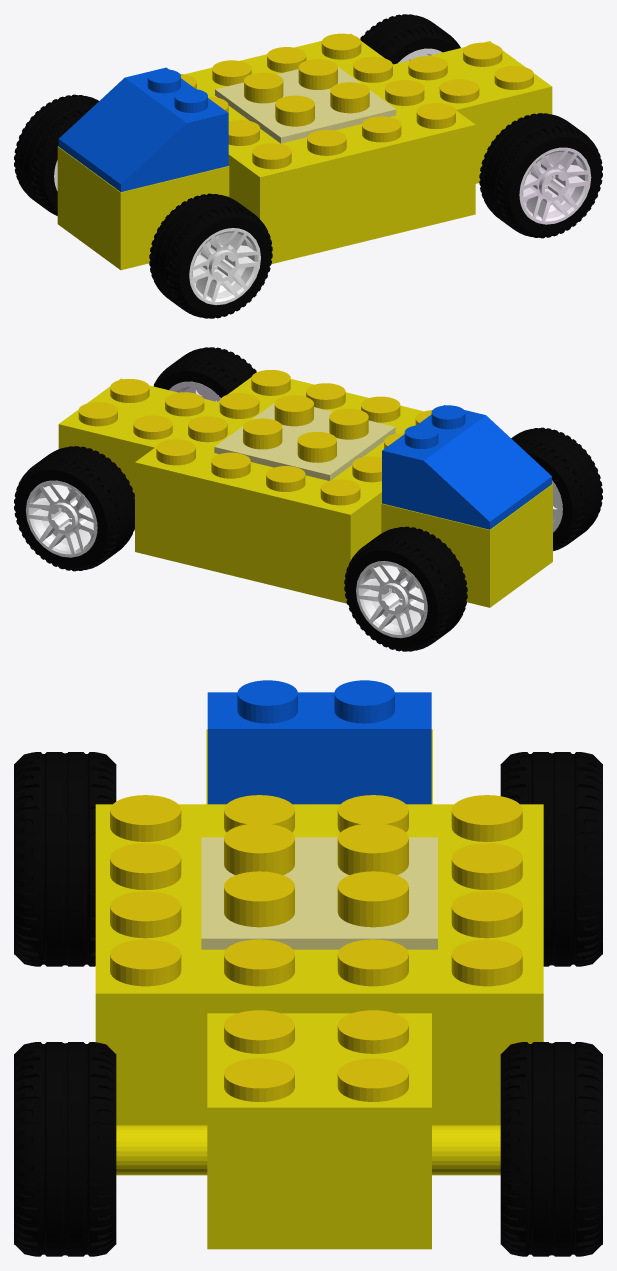
File: Semi-Car.fbx
3 views of the same model, one above another, from view 1: azimuth 30°, elevation 25°; view 2: azimuth 150°, elevation 25°; view 3: azimuth 270°, elevation 25° (orthographic). The views are drawn at different scales.
Parts seen in each view (by area): view 1: Cube; view 2: Cube; view 3: Cube.
Boxes of the visible parts, <box> form: Cube: <box>14,14,602,318</box>; Cube: <box>14,347,602,651</box>; Cube: <box>14,680,602,1256</box>.
Bounding box in the file's own units: 538 × 195 × 351.
